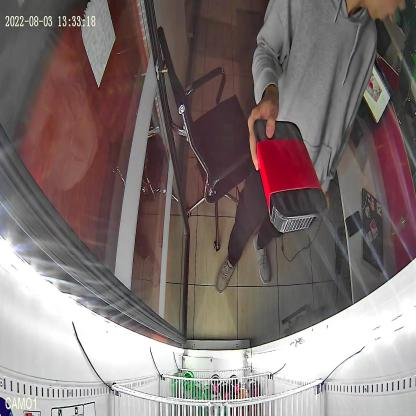red: (252, 117, 328, 231)
